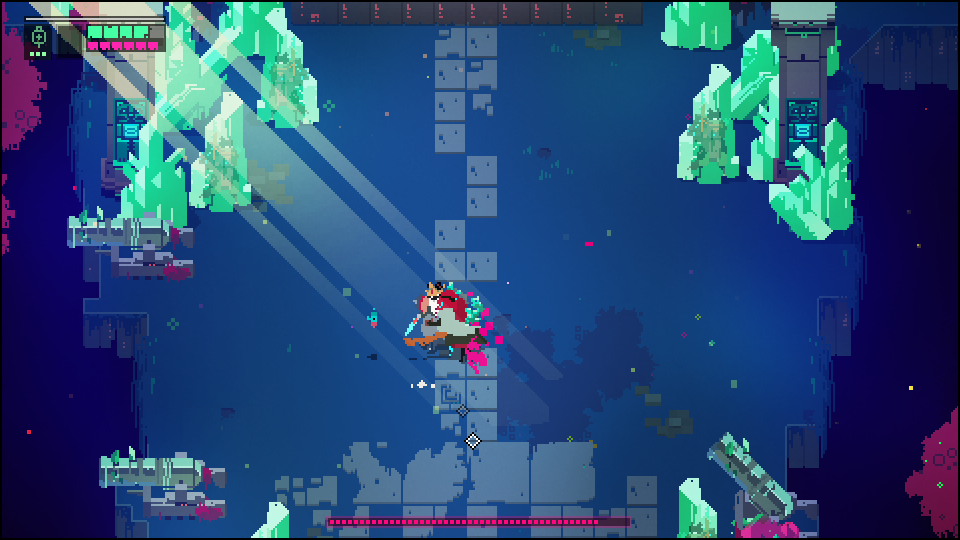hanged_man: (402, 274, 486, 361)
